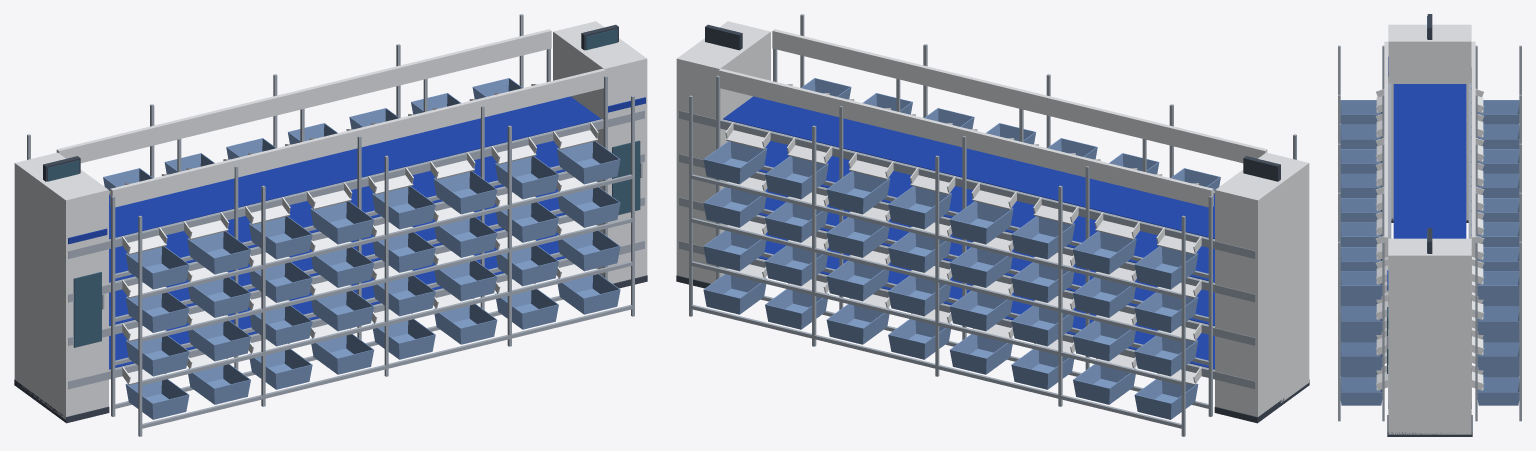
File: SM_MPR_SorterCAD64_LOD1.fbx
The picture shows the model from 3 angles, left to right: view 1: azimuth 30°, elevation 25°; view 2: azimuth 150°, elevation 25°; view 3: azimuth 270°, elevation 25°; orthographic projection. The views are drawn at different scales.
Visible parts, largest first — view 1: SM_MPR_SorterCAD64_LOD1; view 2: SM_MPR_SorterCAD64_LOD1; view 3: SM_MPR_SorterCAD64_LOD1.
Part boxes in pixels (x1,y1,x2,y2): SM_MPR_SorterCAD64_LOD1: (14, 14, 647, 436); SM_MPR_SorterCAD64_LOD1: (676, 14, 1309, 436); SM_MPR_SorterCAD64_LOD1: (1338, 14, 1521, 436).
Size of the model in its own units: 623 by 209 by 245.
